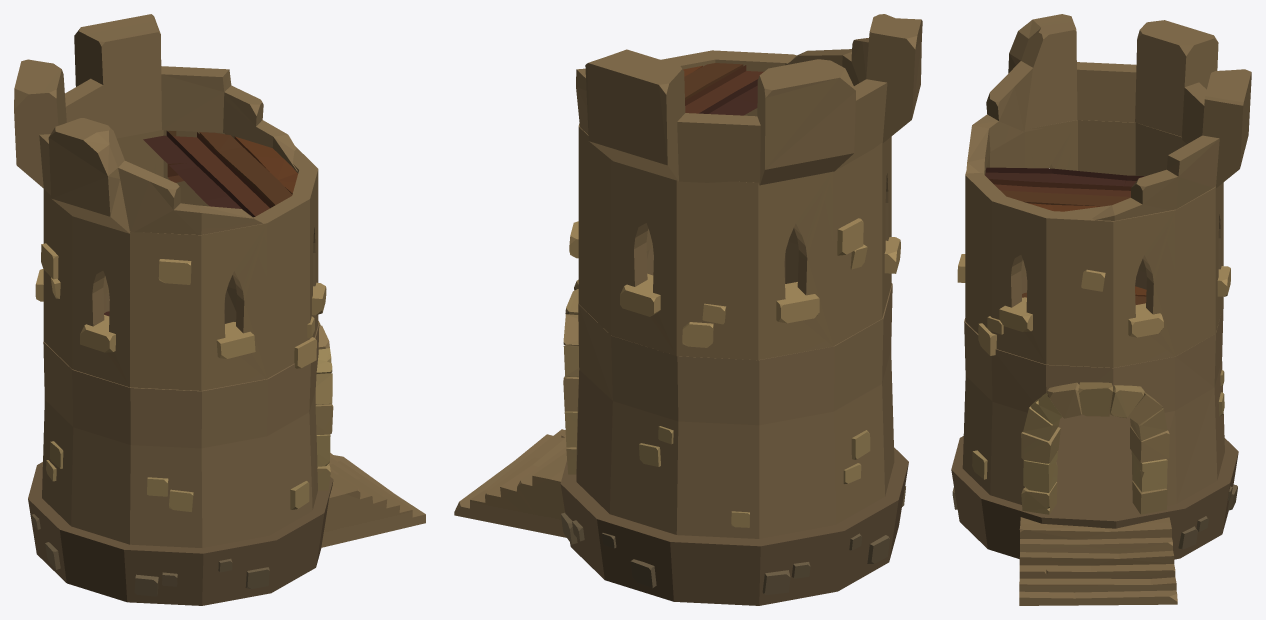
The model's file is sf_dr_tower.glb.
3 views of the same model, side by side, from view 1: azimuth 30°, elevation 25°; view 2: azimuth 150°, elevation 25°; view 3: azimuth 270°, elevation 25° (orthographic). The views are drawn at different scales.
Parts seen in each view (by area): view 1: sf_dr_tower; view 2: sf_dr_tower; view 3: sf_dr_tower.
Boxes of the visible parts, <box> form: sf_dr_tower: <box>14,14,425,605</box>; sf_dr_tower: <box>454,14,922,605</box>; sf_dr_tower: <box>951,14,1251,605</box>.
Bounding box in the file's own units: 9.24 × 11.63 × 7.3.
Materials: 1 (1 with a texture image).
